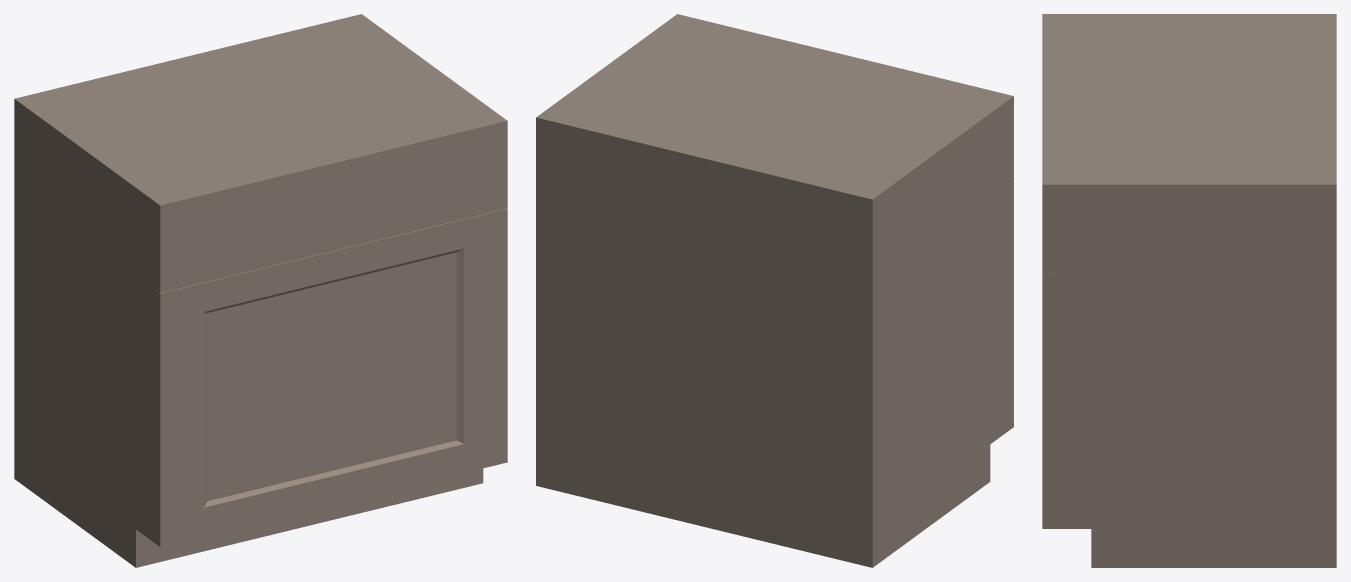
The model's file is Base-Cabinet-Single-Door_W33in_2D.glb.
The picture shows the model from 3 angles, left to right: view 1: azimuth 30°, elevation 25°; view 2: azimuth 150°, elevation 25°; view 3: azimuth 270°, elevation 25°; orthographic projection. The views are drawn at different scales.
Visible parts, largest first — view 1: Base-Cabinet-Single-Door_W33in_2D; view 2: Base-Cabinet-Single-Door_W33in_2D; view 3: Base-Cabinet-Single-Door_W33in_2D.
Boxes of the visible parts, x1,y1,x2,y2 form: Base-Cabinet-Single-Door_W33in_2D: (14,14,507,567); Base-Cabinet-Single-Door_W33in_2D: (536,14,1013,567); Base-Cabinet-Single-Door_W33in_2D: (1042,14,1336,567).
Bounding box in the file's own units: 0.8382 × 0.8769 × 0.61.
